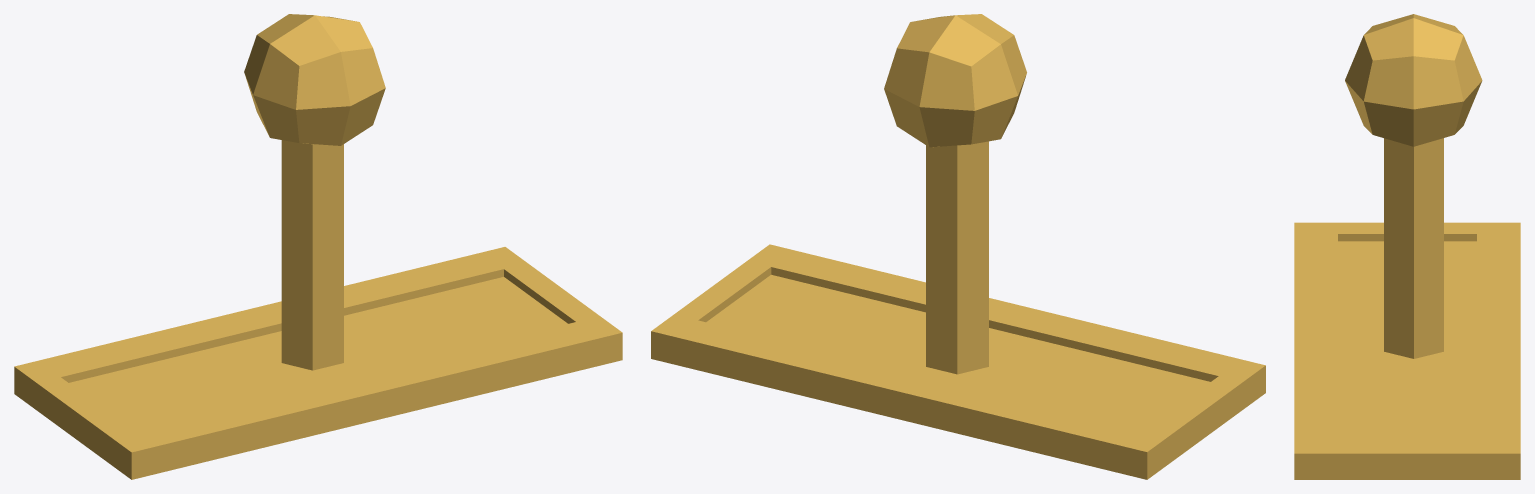
File: WheelLever.fbx
3 views of the same model, side by side, from view 1: azimuth 30°, elevation 25°; view 2: azimuth 150°, elevation 25°; view 3: azimuth 270°, elevation 25° (orthographic). The views are drawn at different scales.
Parts seen in each view (by area): view 1: Lever Base.001, Lever.001; view 2: Lever Base.001, Lever.001; view 3: Lever Base.001, Lever.001.
Boxes of the visible parts, x1,y1,x2,y2 form: Lever Base.001: (14, 247, 622, 479); Lever.001: (244, 14, 385, 370); Lever Base.001: (651, 244, 1265, 479); Lever.001: (884, 14, 1026, 374); Lever Base.001: (1294, 222, 1520, 479); Lever.001: (1345, 14, 1482, 358).
Size of the model in its own units: 180 by 127 by 74.68.
